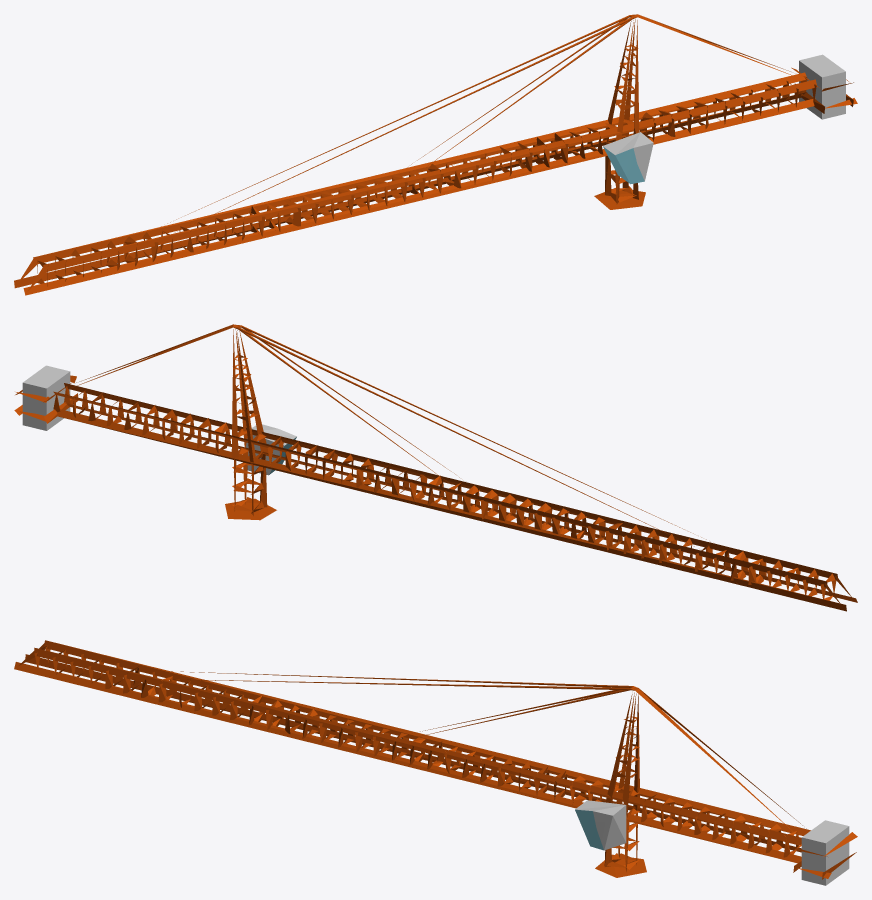
Rendered from crane2.obj.
3 views of the same model, one above another, from view 1: azimuth 30°, elevation 25°; view 2: azimuth 150°, elevation 25°; view 3: azimuth 330°, elevation 25° (orthographic).
Visible parts, largest first — view 1: Boom_Cylinder.001; view 2: Boom_Cylinder.001; view 3: Boom_Cylinder.001.
Part boxes in pixels (x1,y1,x2,y2): Boom_Cylinder.001: [14, 14, 857, 295]; Boom_Cylinder.001: [14, 324, 857, 611]; Boom_Cylinder.001: [14, 640, 857, 885].
Size of the model in its own units: 277 by 58.52 by 21.14.
